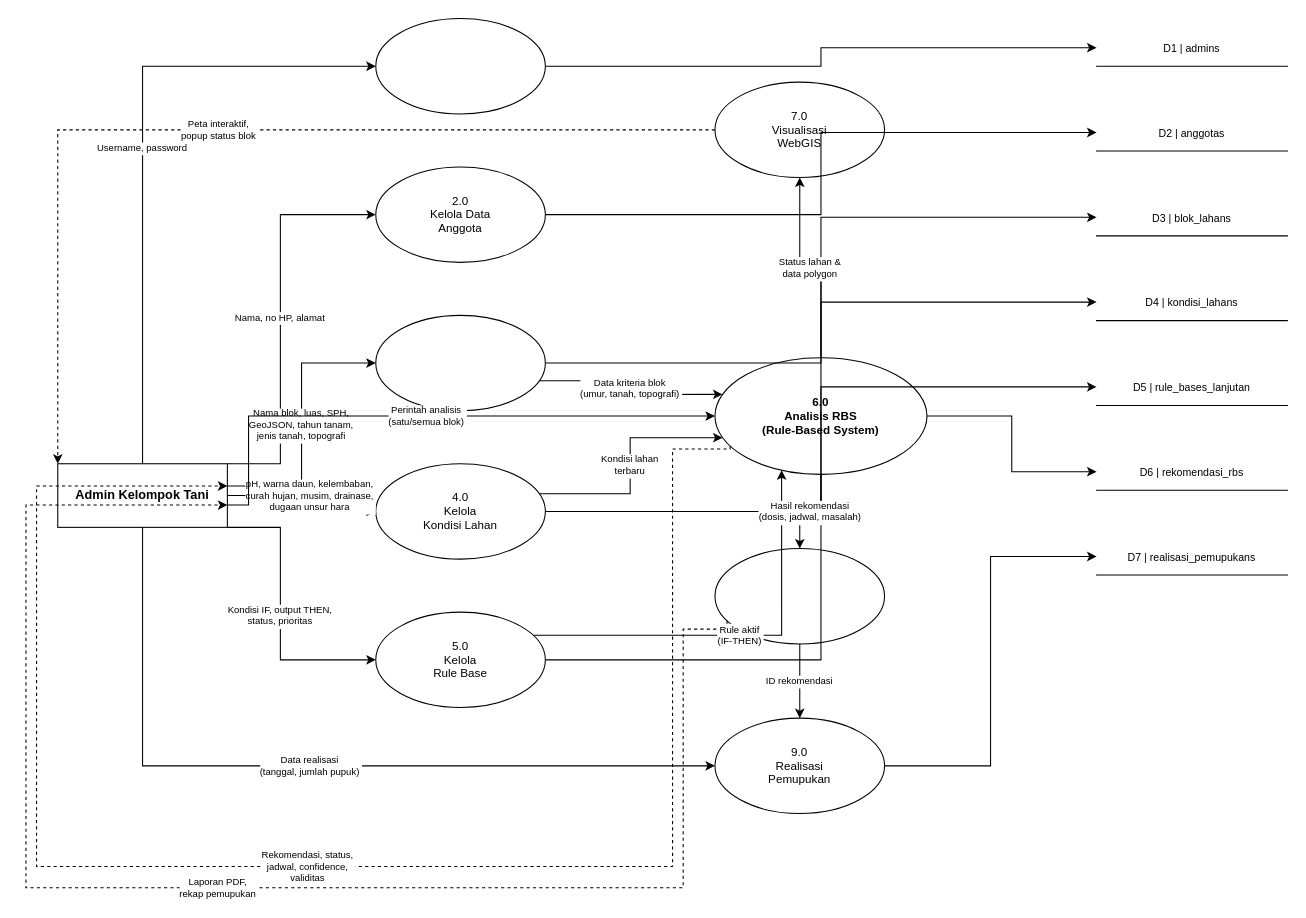
Image size: 1306x918. Some labels were removed from this diagram. The box of each missing label's shape, as (x1, y1, x2, y2) in pixels:
1.0 Autentikasi: (375, 17, 545, 114)
3.0 Kelola Blok Lahan: (375, 314, 545, 411)
8.0 Laporan & Export PDF: (714, 547, 885, 644)
